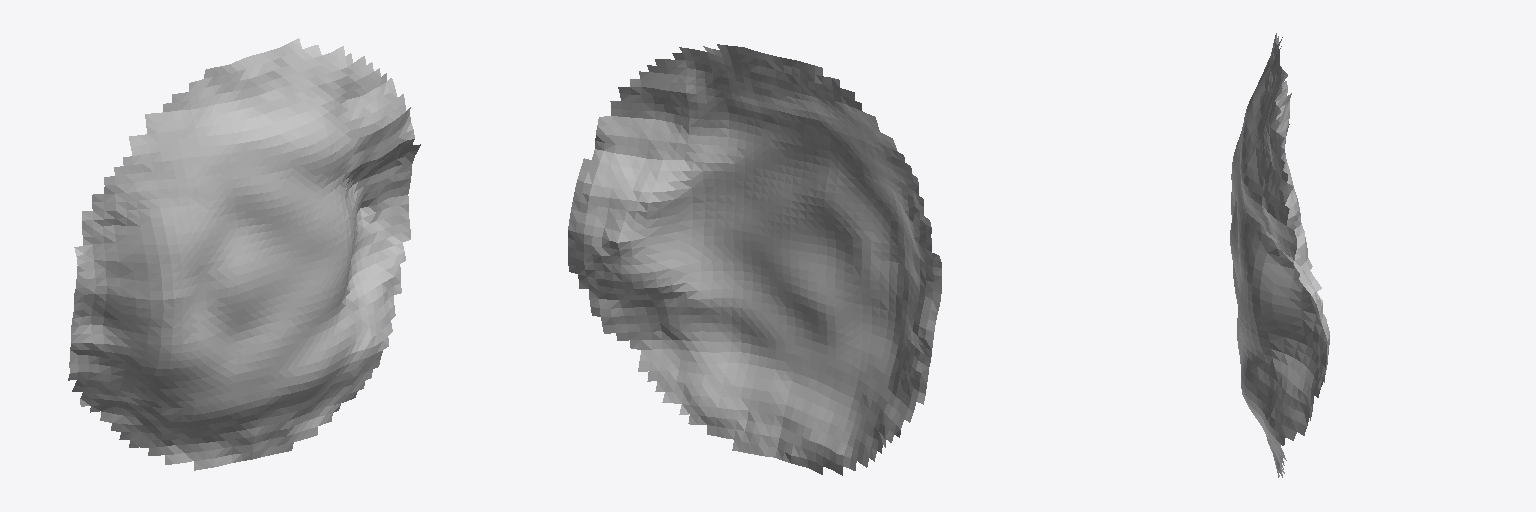
Rendered from feu.obj.
3 renders of one model, left to right at view 1: azimuth 30°, elevation 25°; view 2: azimuth 150°, elevation 25°; view 3: azimuth 270°, elevation 25°, orthographic.
Visible parts, largest first — view 1: Plane.004; view 2: Plane.004; view 3: Plane.004.
Part boxes in pixels (bbox=[...]): Plane.004: bbox=[68, 38, 420, 470]; Plane.004: bbox=[568, 44, 941, 475]; Plane.004: bbox=[1230, 33, 1329, 477].
Bounding box in the file's own units: 0.4113 × 0.4512 × 0.1006.